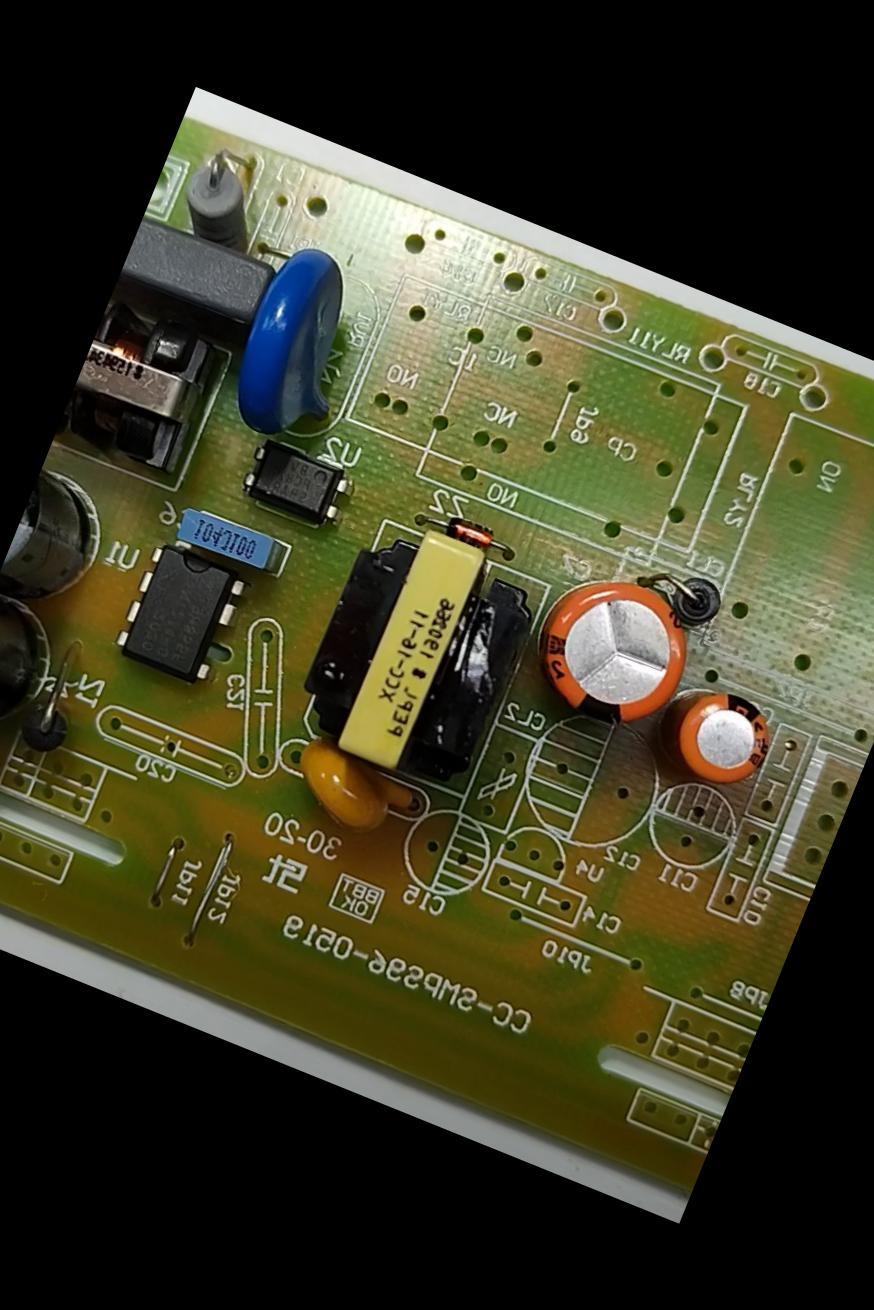Cap1: (503, 538, 724, 755)
Cap2: (641, 663, 800, 820)
Cap3: (0, 452, 139, 640)
Cap4: (0, 576, 92, 769)
MOSFET: (98, 518, 266, 700)
Mov: (206, 225, 389, 466)
Resistor: (162, 136, 284, 262)
Transformer: (280, 494, 560, 807), (54, 290, 236, 486)
